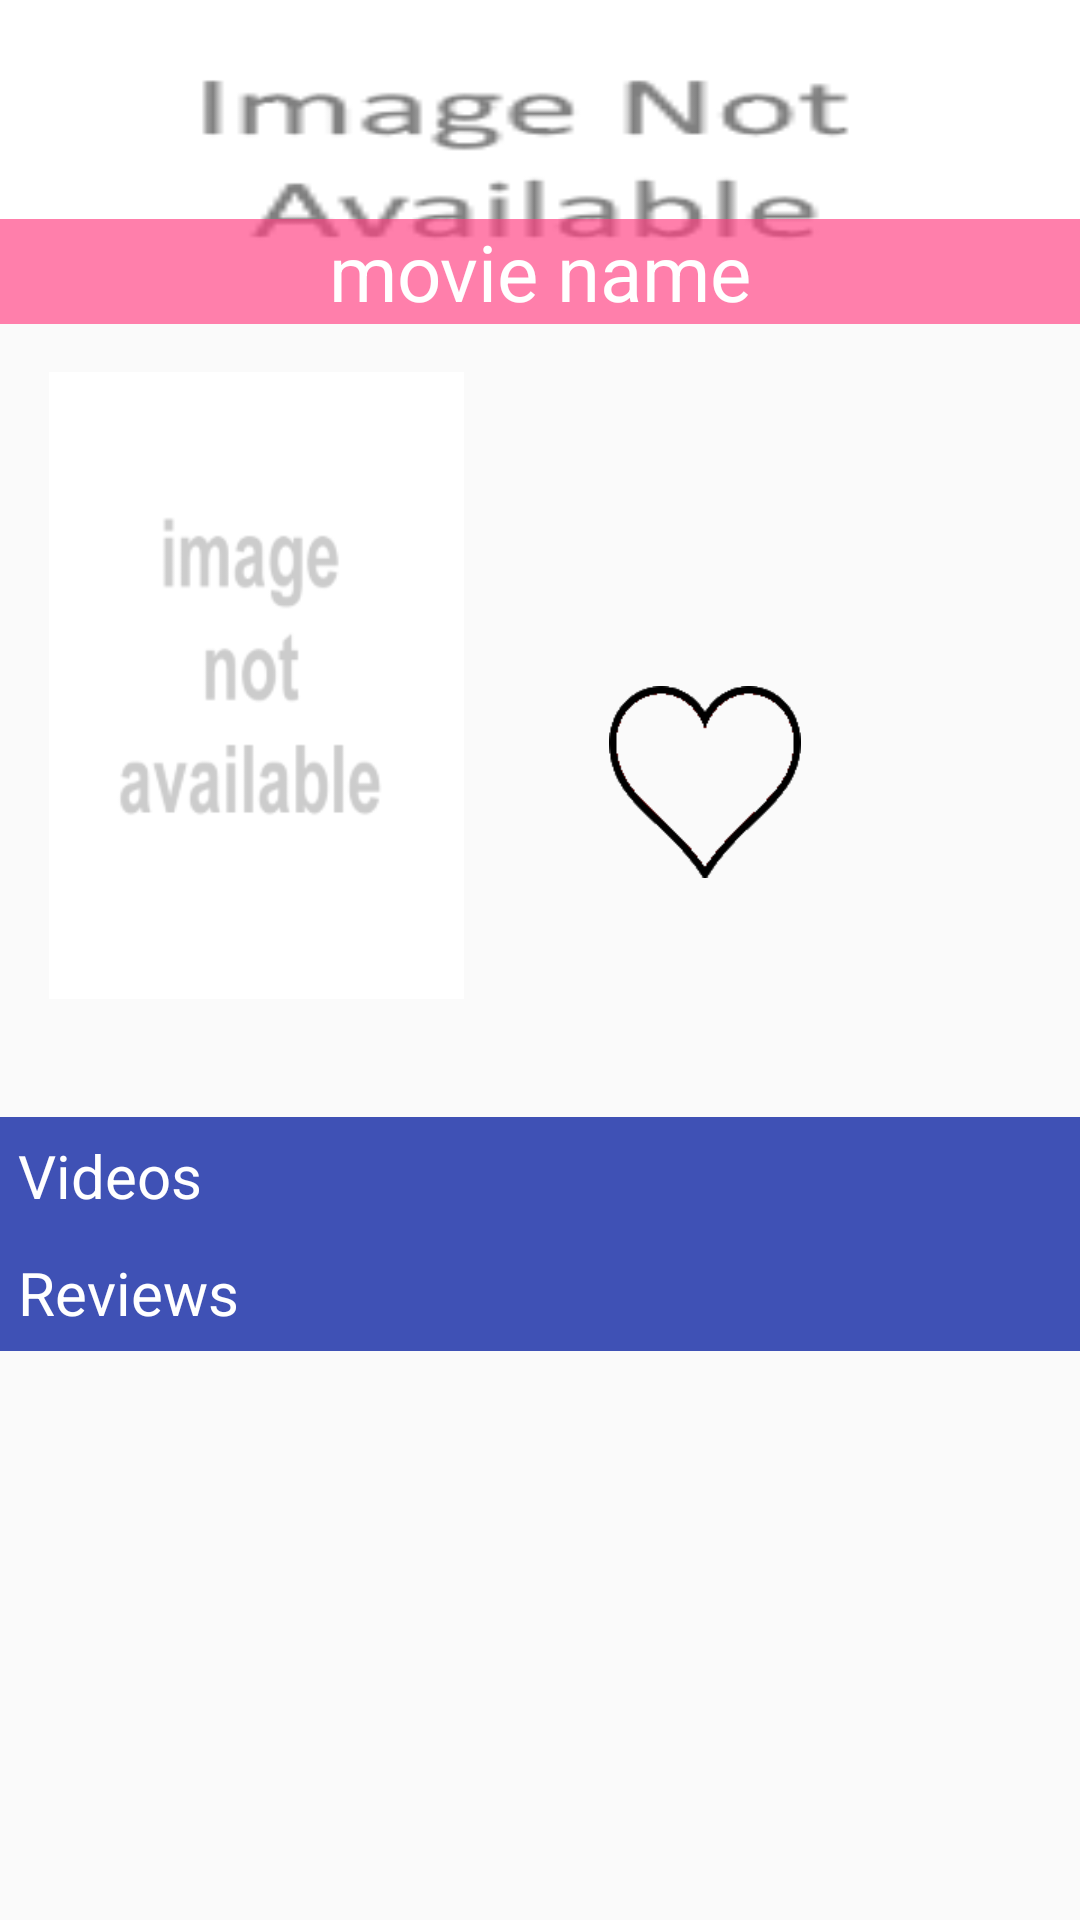

Locate icon controls on the screen. Image size 1080 x 1920, boxes as (x1, y1, x2, y2).
unlike: (609, 686, 801, 878)
